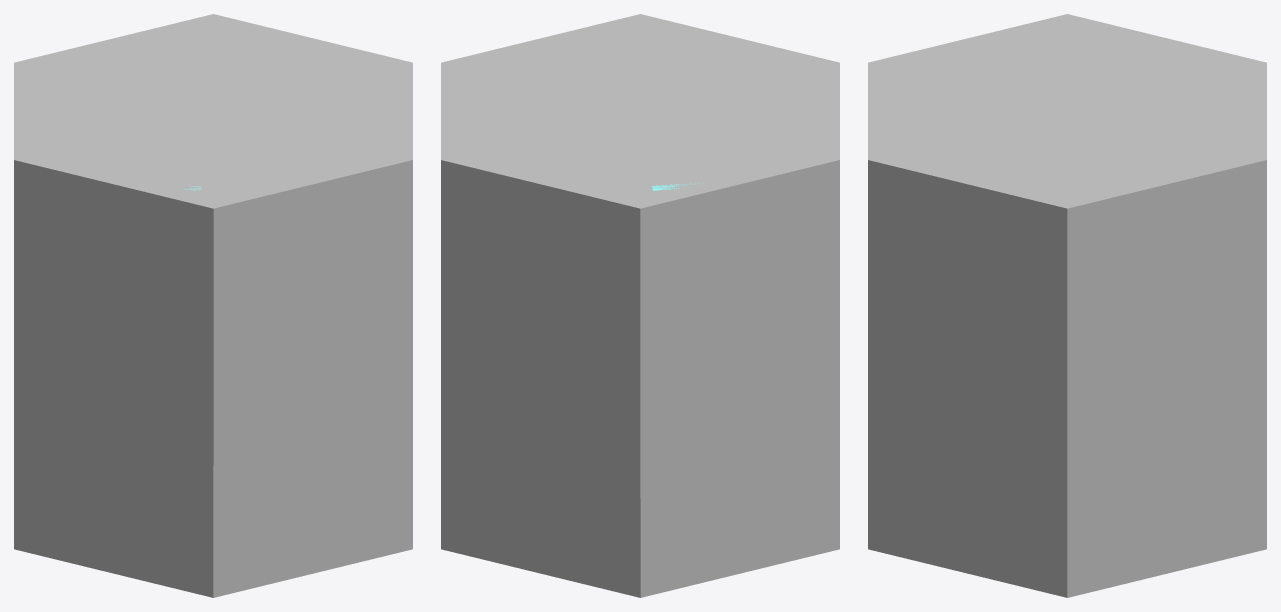
File: SM_Billboard_01.fbx
3 views of the same model, side by side, from view 1: azimuth 30°, elevation 25°; view 2: azimuth 150°, elevation 25°; view 3: azimuth 270°, elevation 25° (orthographic).
Visible parts, largest first — view 1: SM_Billboard_01_ConvexHulls; view 2: SM_Billboard_01_ConvexHulls; view 3: SM_Billboard_01_ConvexHulls.
Part boxes in pixels (x1=…): SM_Billboard_01_ConvexHulls: x1=14, y1=14, x2=412, y2=597; SM_Billboard_01_ConvexHulls: x1=441, y1=14, x2=839, y2=597; SM_Billboard_01_ConvexHulls: x1=868, y1=14, x2=1266, y2=597.
Bounding box in the file's own units: 557 × 483 × 520.
Materials: 2 (1 with a texture image).
